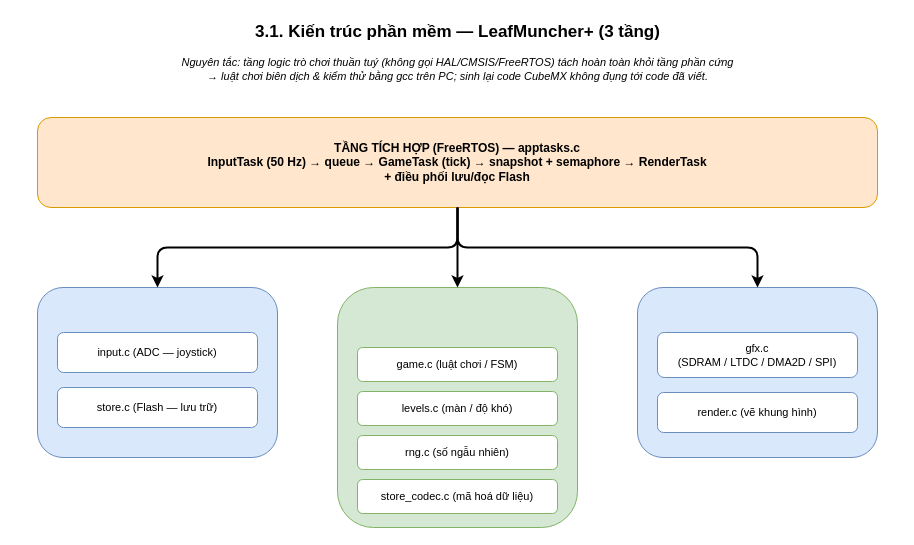
Some shapes in this 914 by 545 pixel diagram are drawn without their labels. The box of each missing label's shape, as (x1, y1, x2, y2) in pixels:
TẦNG LOGIC THUẦN (không gọi HAL/CMSIS/FreeRTOS): (336, 286, 578, 528)
TẦNG PHẦN CỨNG (nhập): (36, 286, 278, 458)
TẦNG PHẦN CỨNG (xuất): (636, 286, 878, 458)
